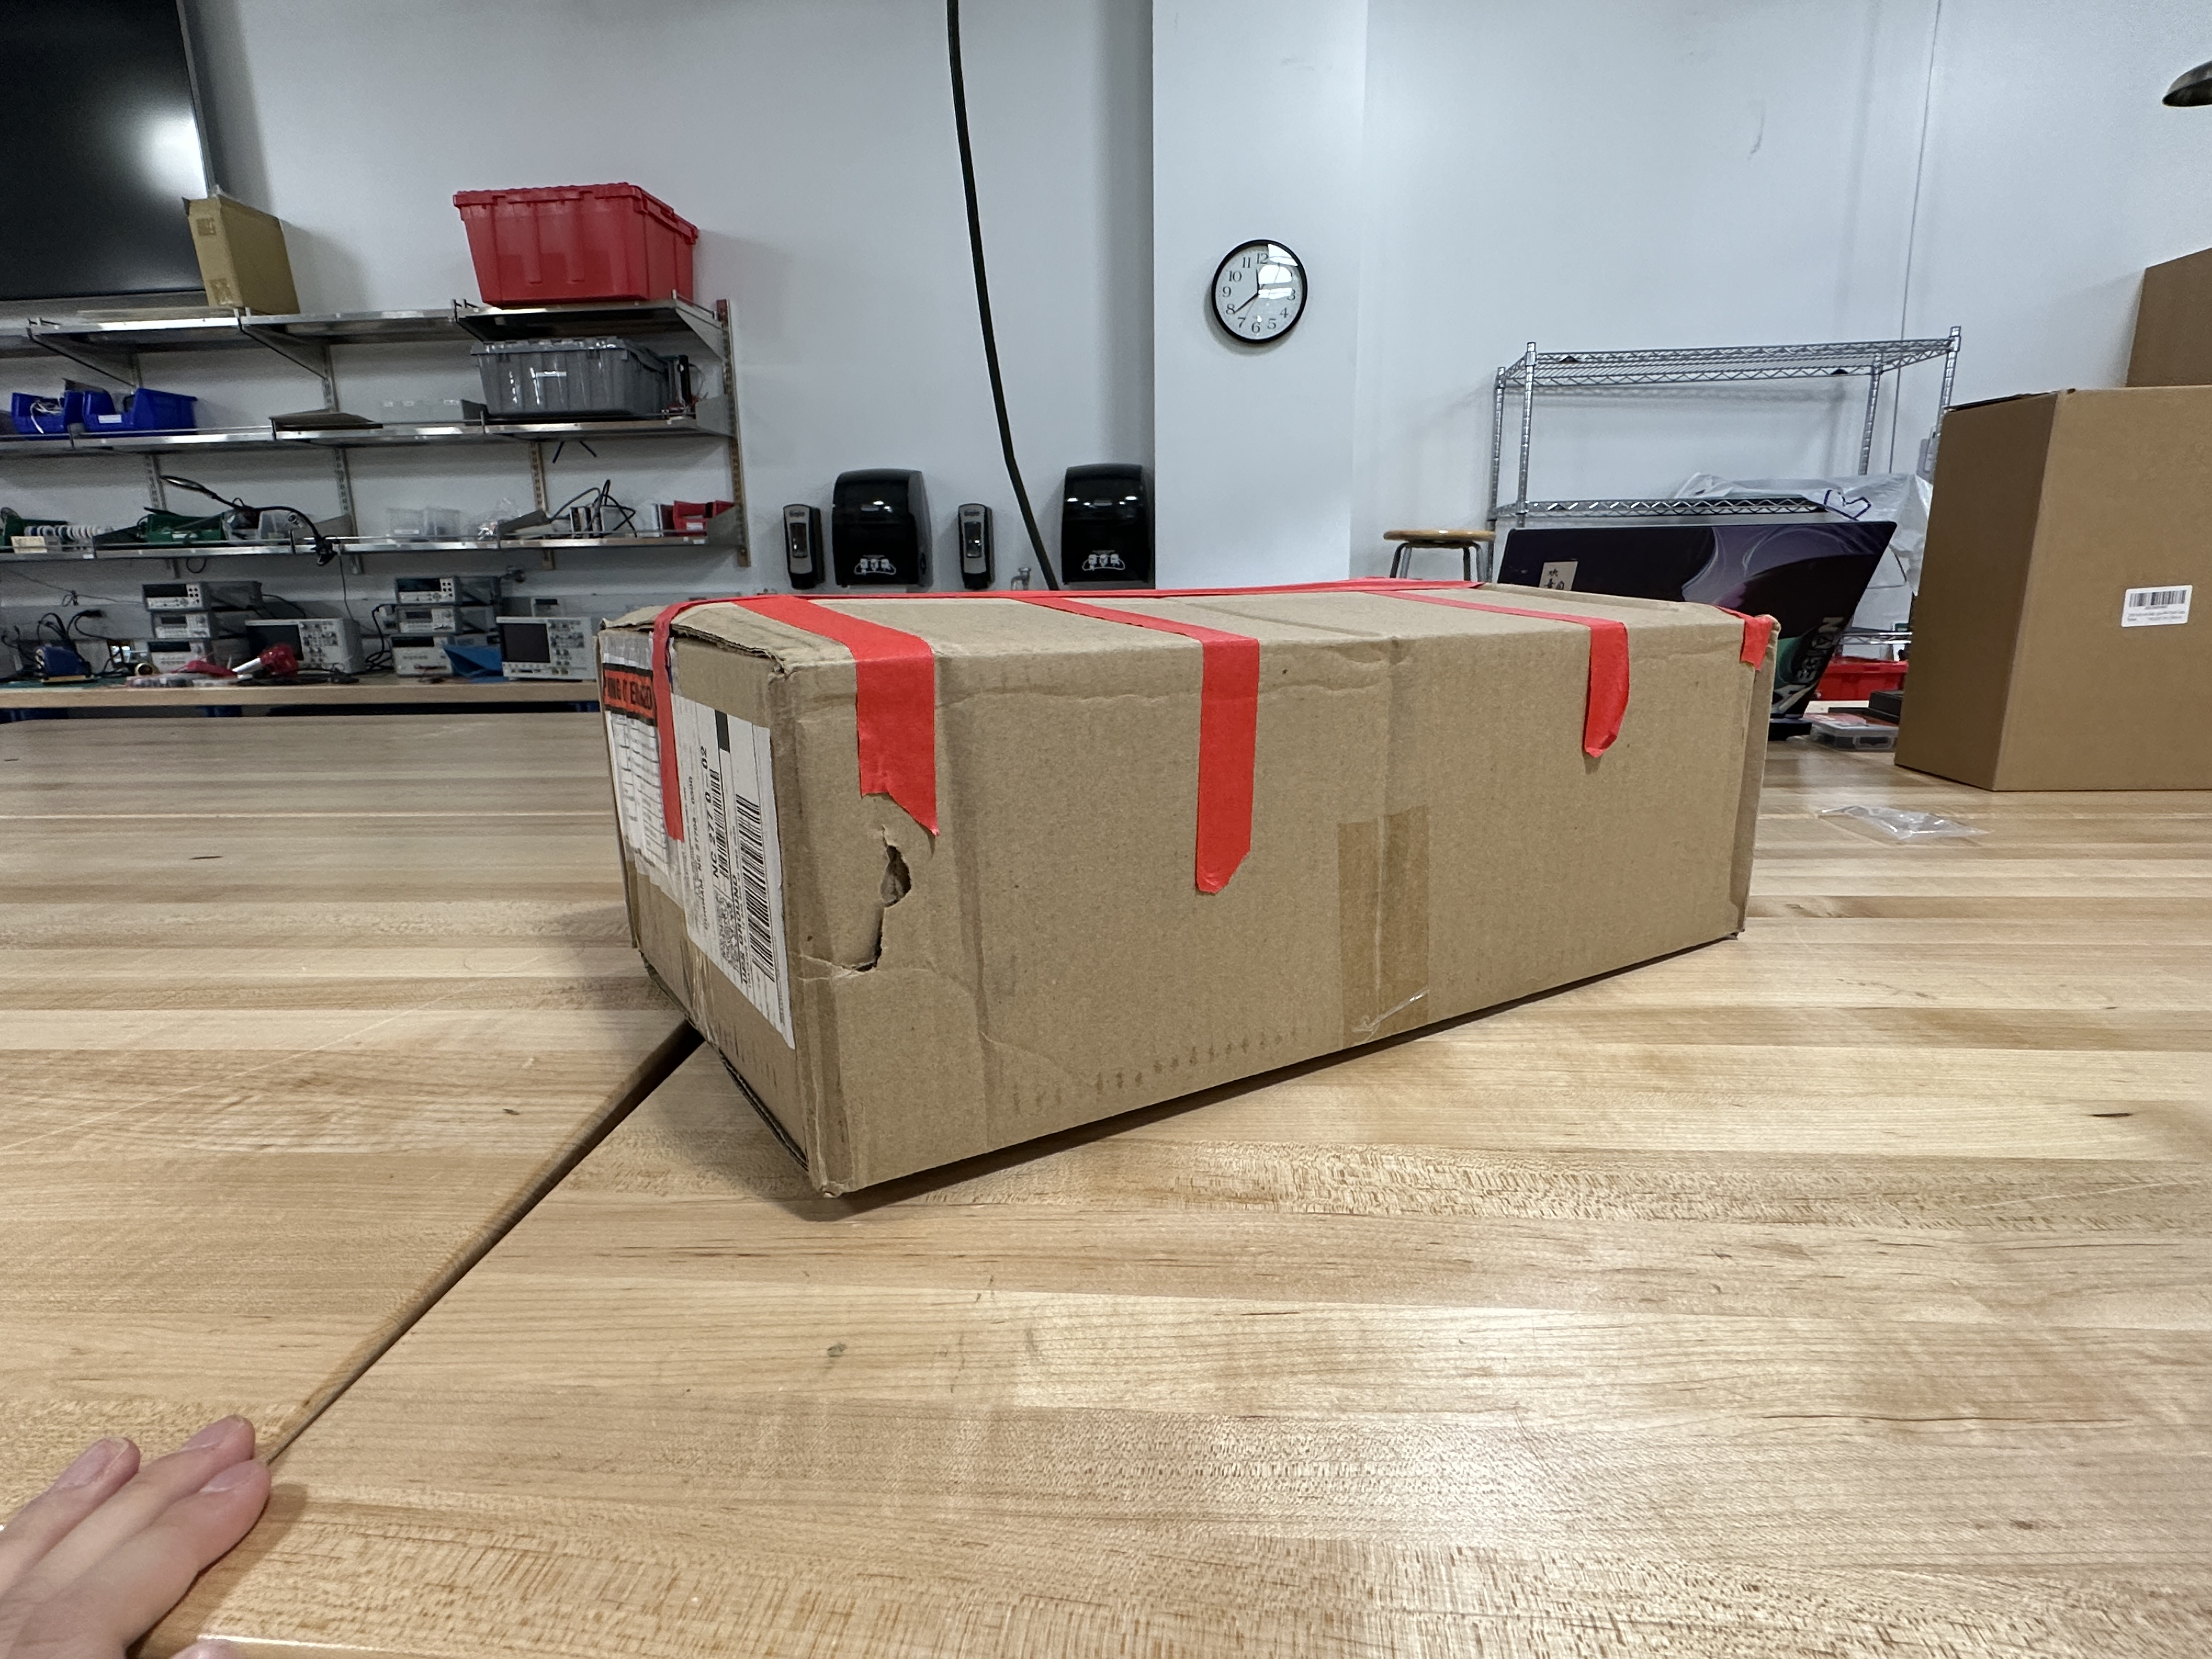Box_Obstacle: (585, 579, 1801, 1237)
